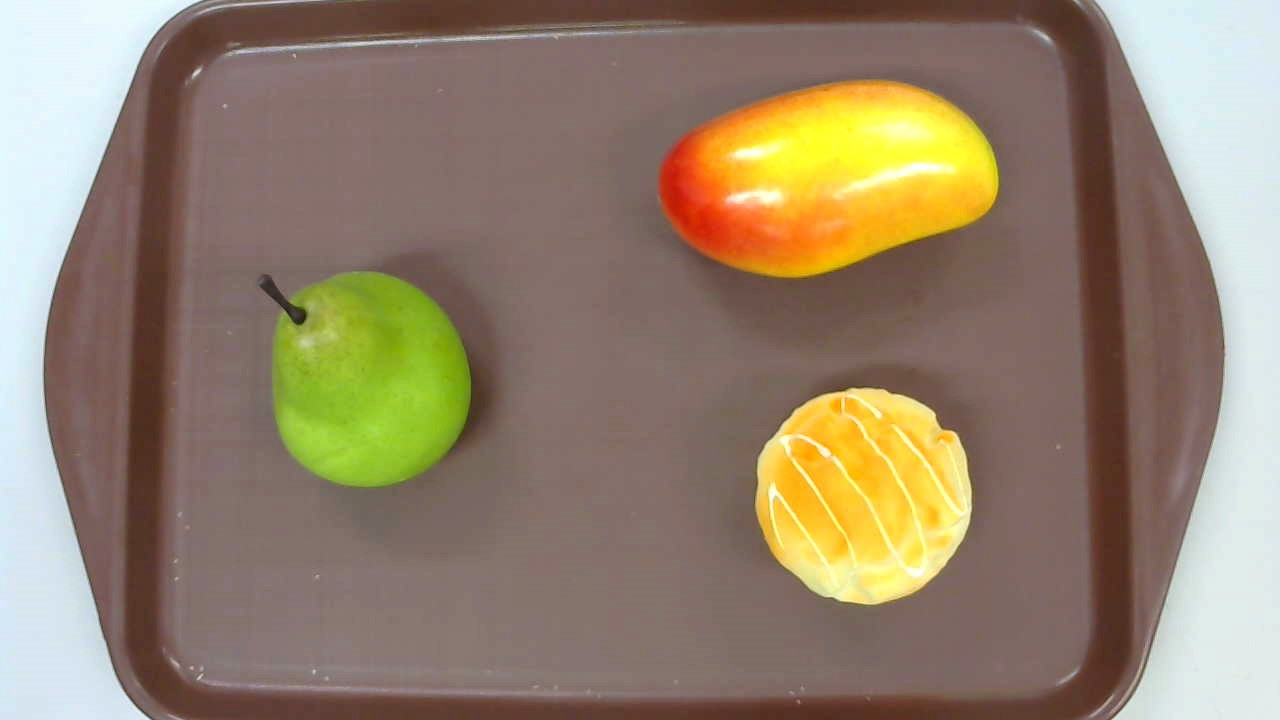cupcake: (755, 386, 972, 604)
green pear: (258, 268, 471, 487)
red mango: (657, 78, 998, 280)
